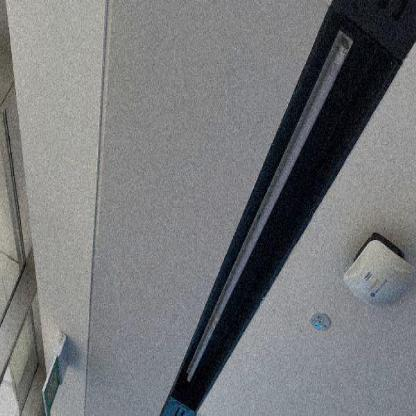light_off: (181, 25, 358, 392)
